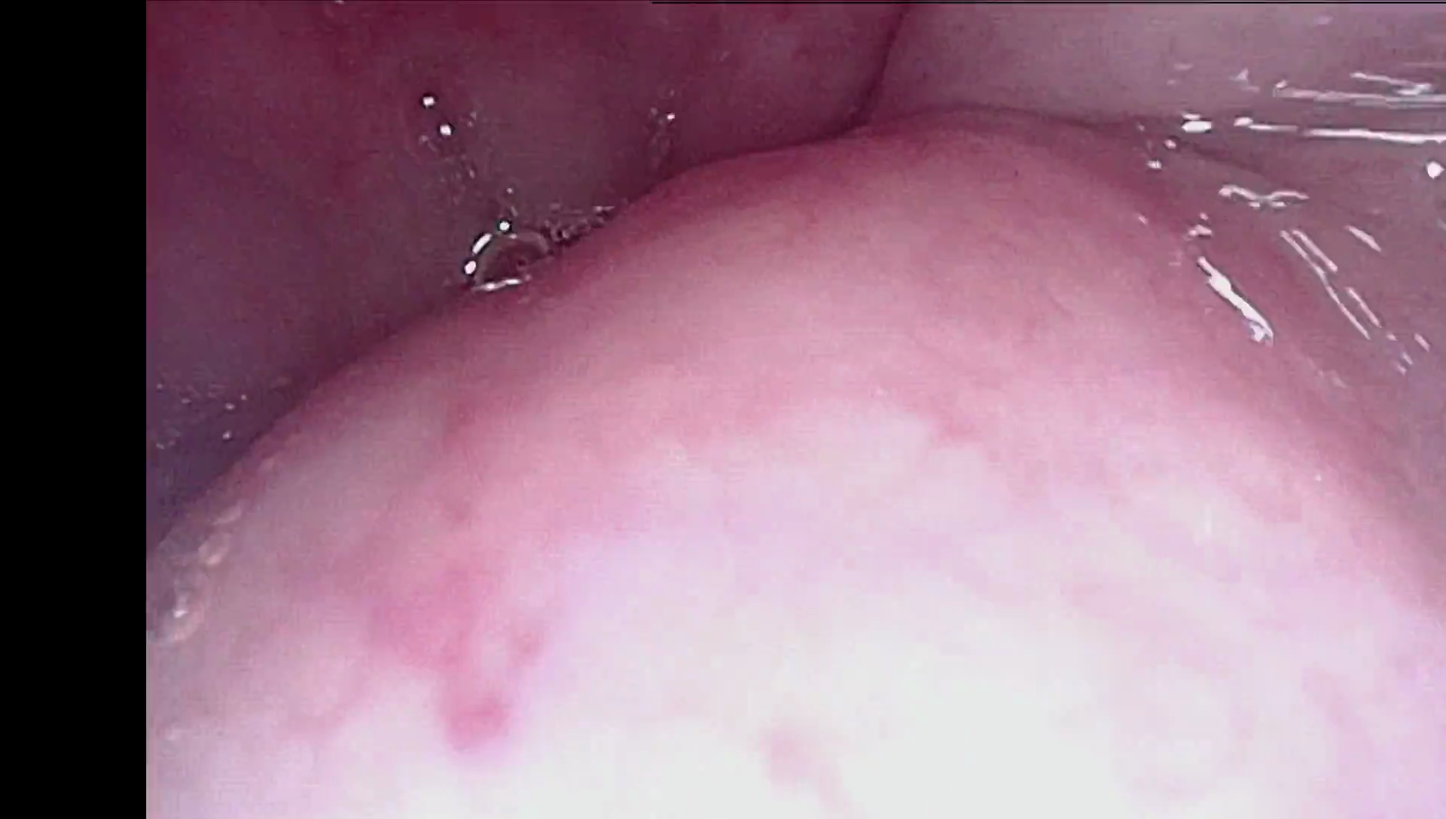close_wall: (179, 196, 1446, 819)
